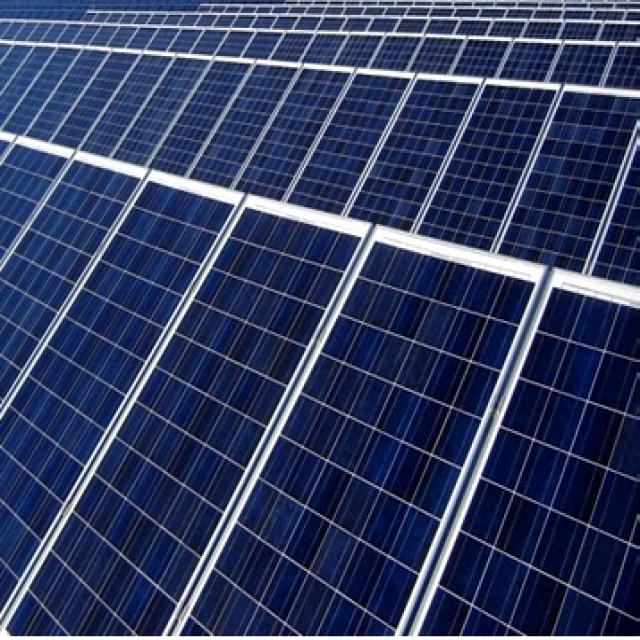crack: (73, 287, 550, 640), (0, 233, 373, 640)
